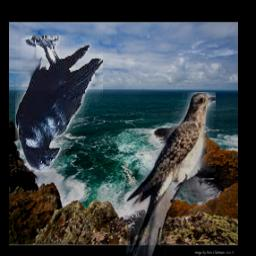Crow: (15, 36, 103, 173)
Cuckoo: (126, 92, 216, 256)
